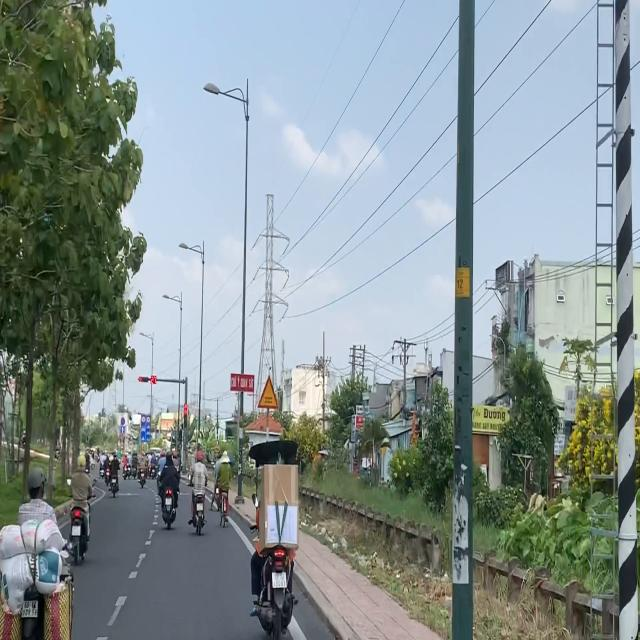Nguy hiem: (257, 374, 280, 408)
